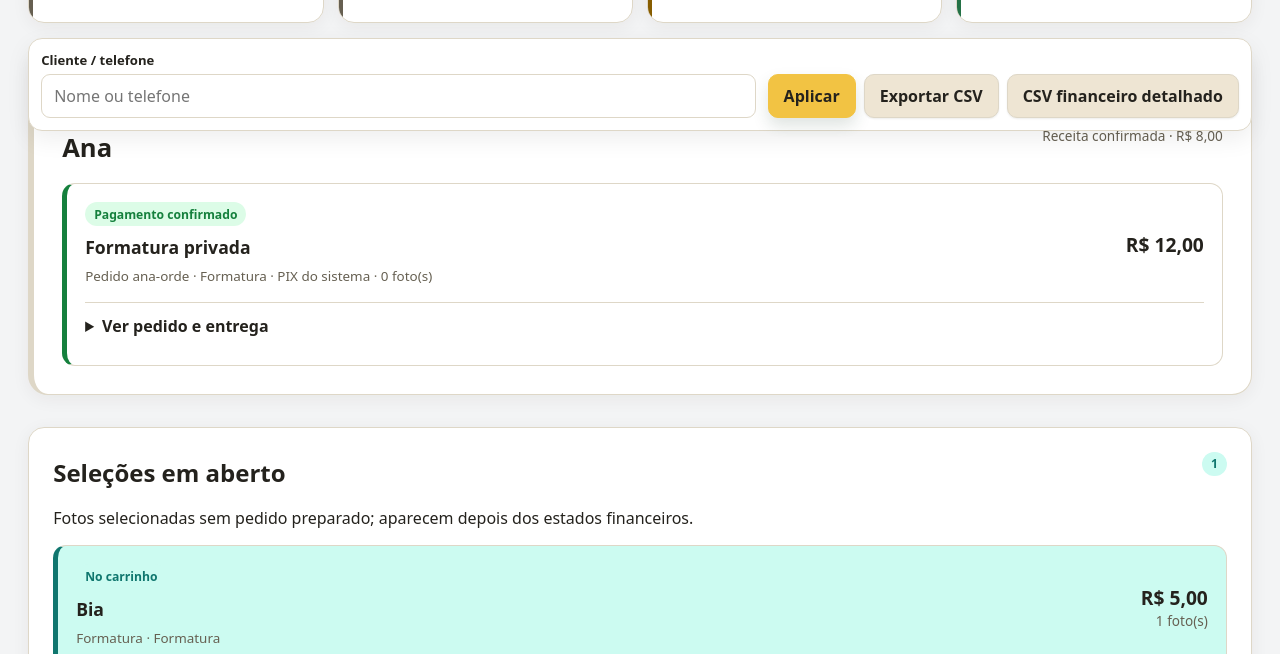
controle operacional de pagamentos › mantém o resultado do envio de entrega visível após atualizar a lista
(page scrolled)
Click the heading "Ver pedido e entrega": (185, 326) [102,315,269,337]
(page scrolled)
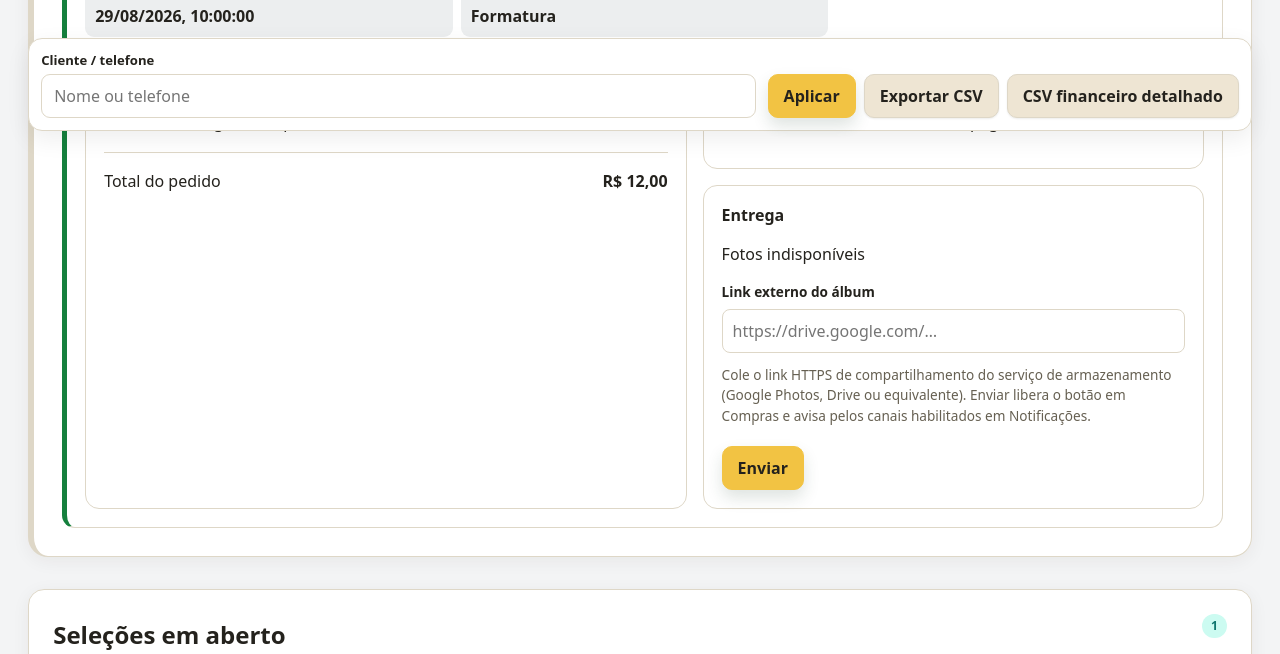
In the field labelled "Link externo do álbum": (953, 331) [722,309,1185,353], type "https://photos.app.goo.gl/SyntheticAlbum"
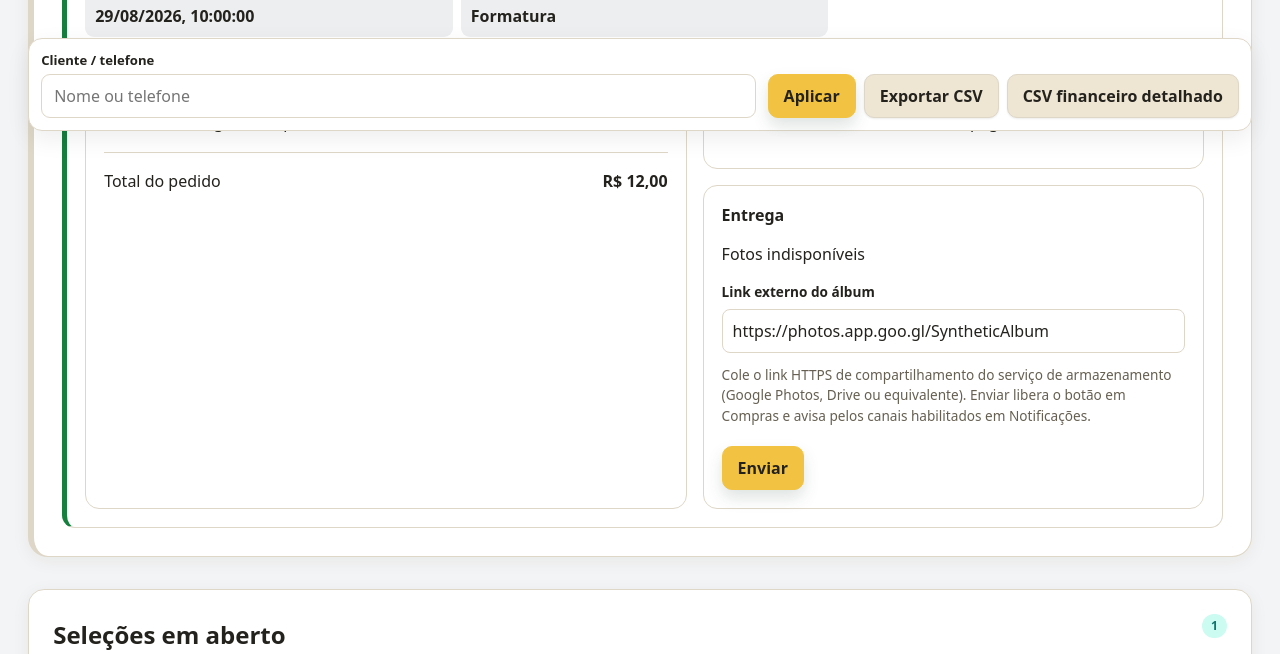
Click the button "Enviar": (763, 468) [722,446,804,490]
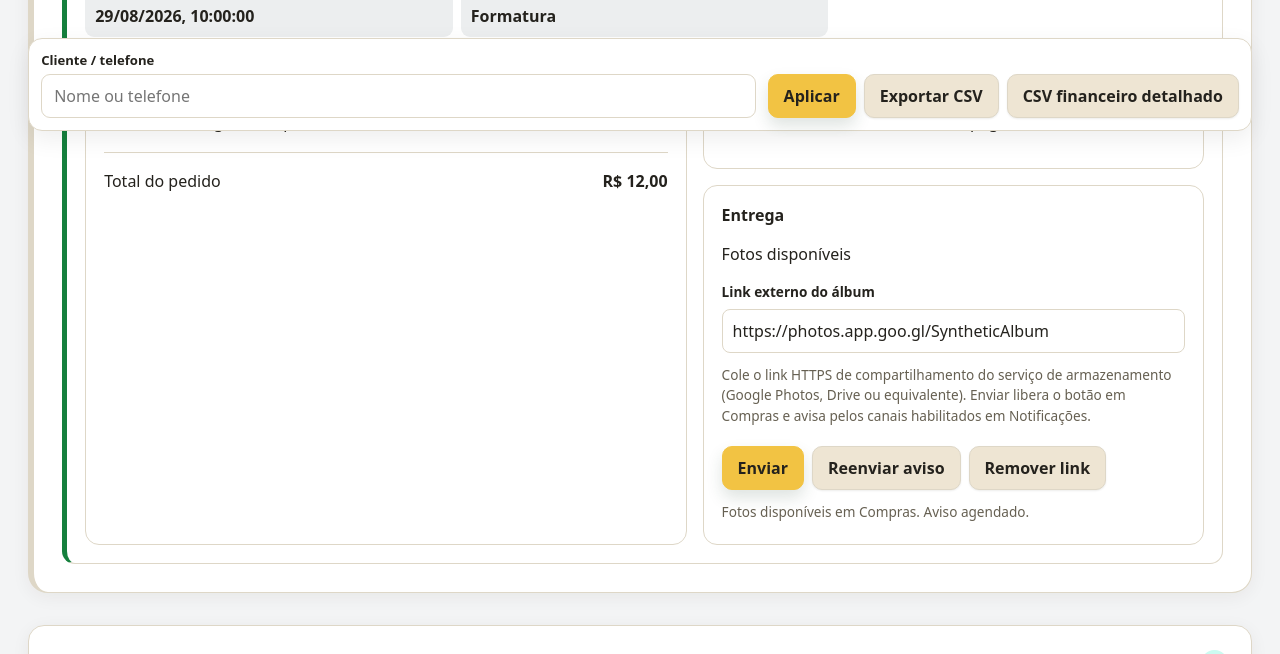
Expected: the message shows "Aviso agendado", [722,502,1029,521]
Expected: the button "Reenviar aviso" is enabled, [812,446,961,490]
